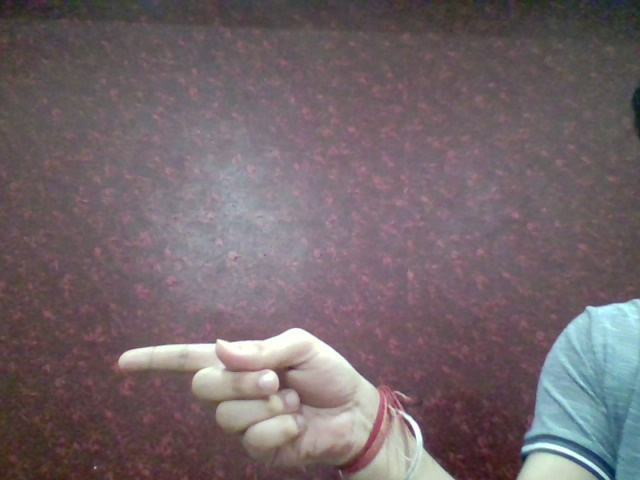g: (111, 316, 364, 472)
